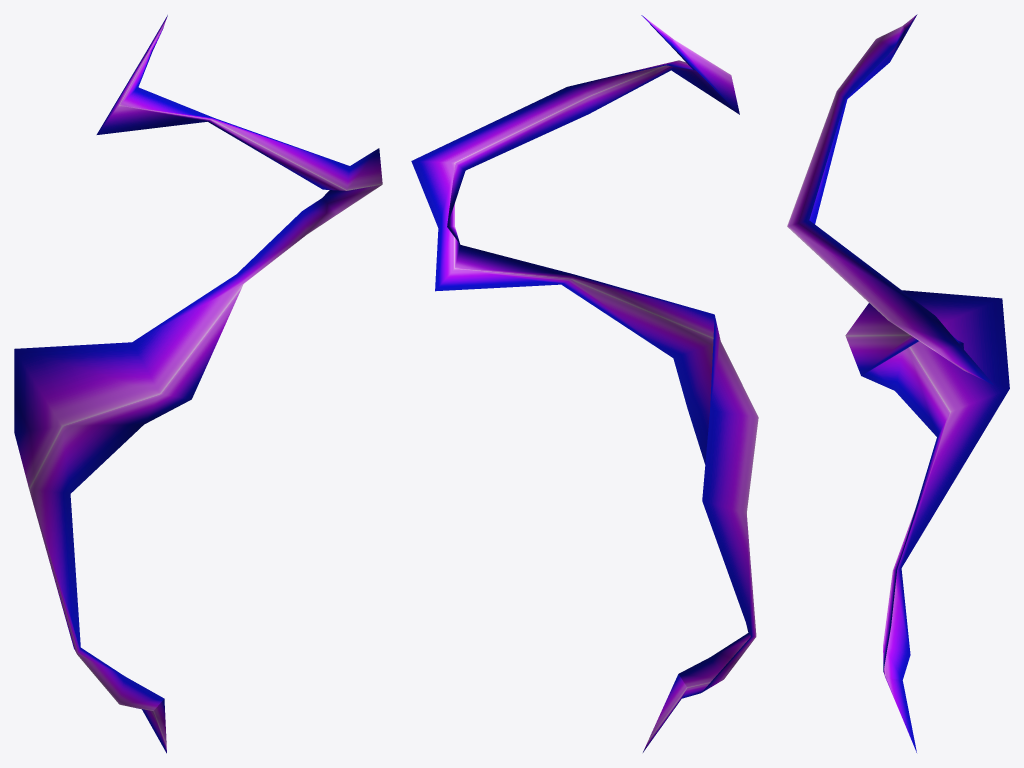
File: lightning_01.fbx
The picture shows the model from 3 angles, left to right: view 1: azimuth 30°, elevation 25°; view 2: azimuth 150°, elevation 25°; view 3: azimuth 270°, elevation 25°; orthographic projection.
Parts seen in each view (by area): view 1: lightning_01; view 2: lightning_01; view 3: lightning_01.
Part boxes in pixels (x1=…): lightning_01: x1=14, y1=15, x2=382, y2=753; lightning_01: x1=411, y1=15, x2=758, y2=752; lightning_01: x1=787, y1=14, x2=1009, y2=752.
Bounding box in the file's own units: 38.85 × 80.08 × 21.84.
